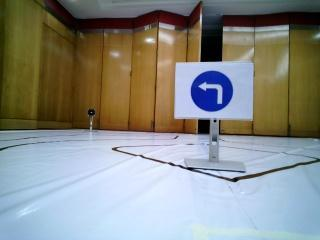left: (181, 65, 240, 120)
